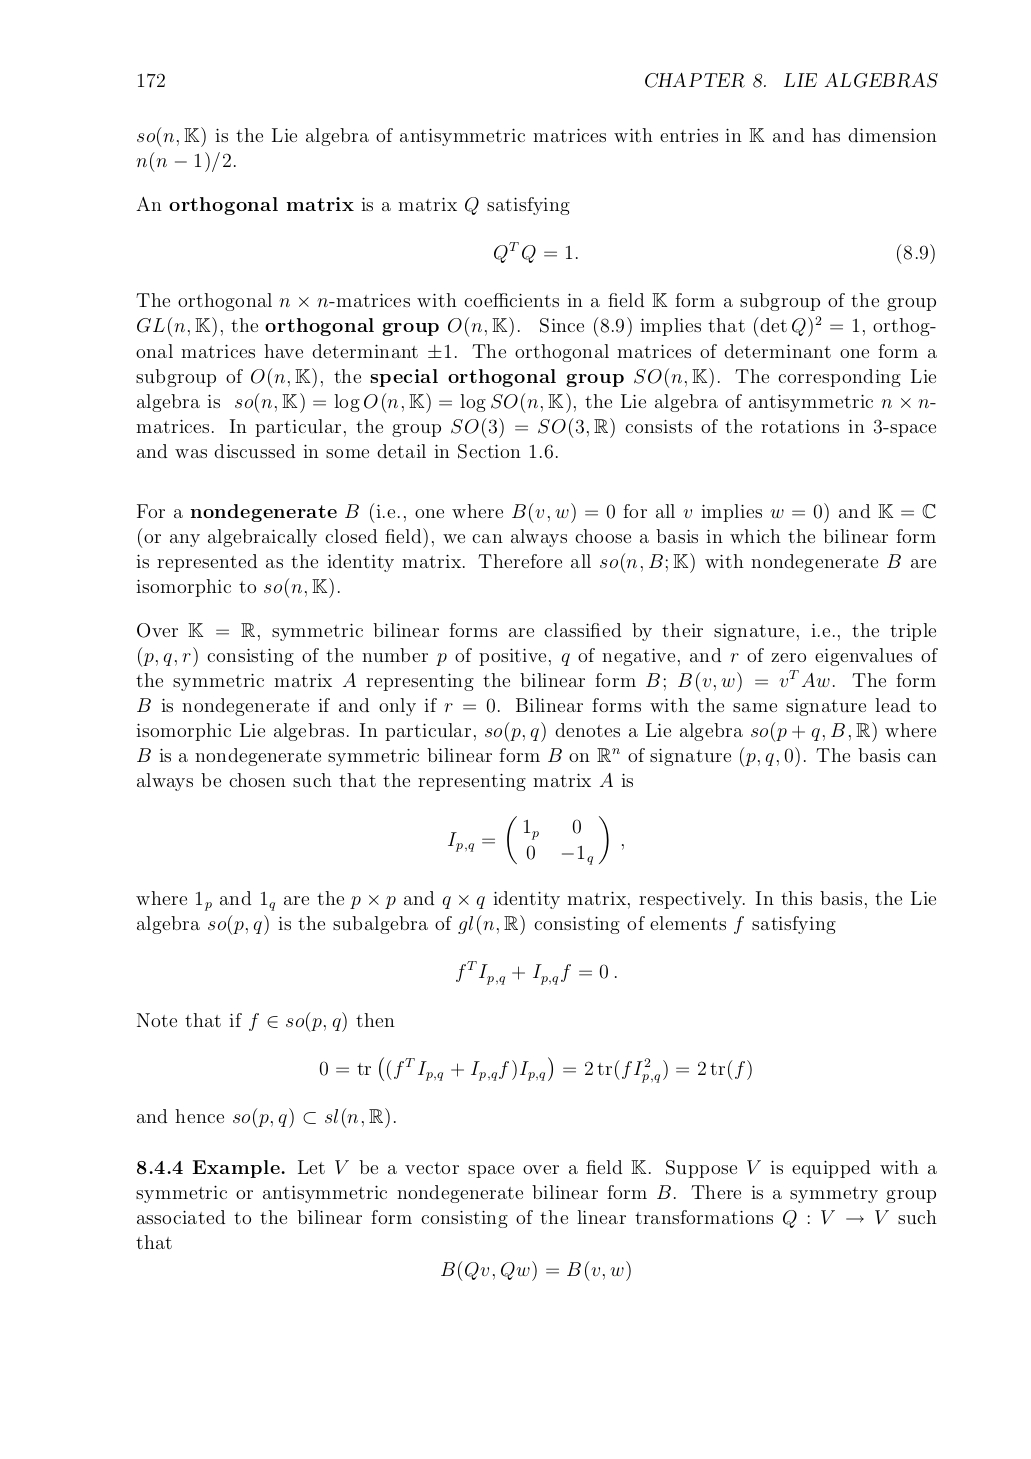formula: (319, 1056, 751, 1083), (494, 241, 934, 264), (447, 815, 623, 864), (456, 960, 616, 985), (441, 1260, 630, 1281)
